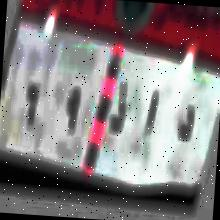6: (20, 74, 42, 132)
9: (64, 81, 84, 143)
alif: (139, 89, 161, 144)
daal: (170, 96, 197, 153)
zaal: (108, 81, 130, 142)
